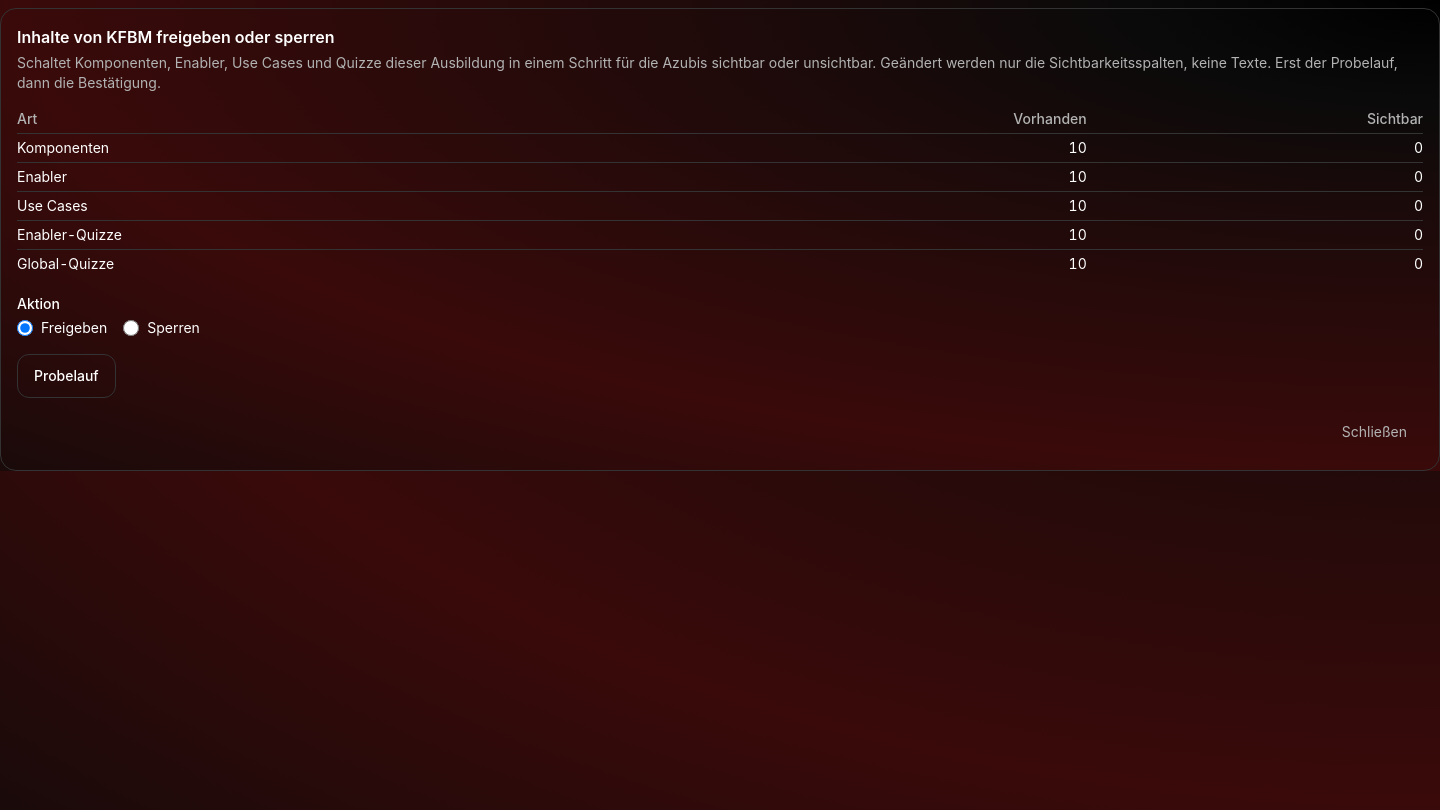
Scenario: ContentReleasePanel › a changed action resets the trial and the confirmation
Expected: the column heading "Komponenten" is shown, [17,134,646,162]
Click the button "Probelauf" at (66, 376), box [17,354,116,398]
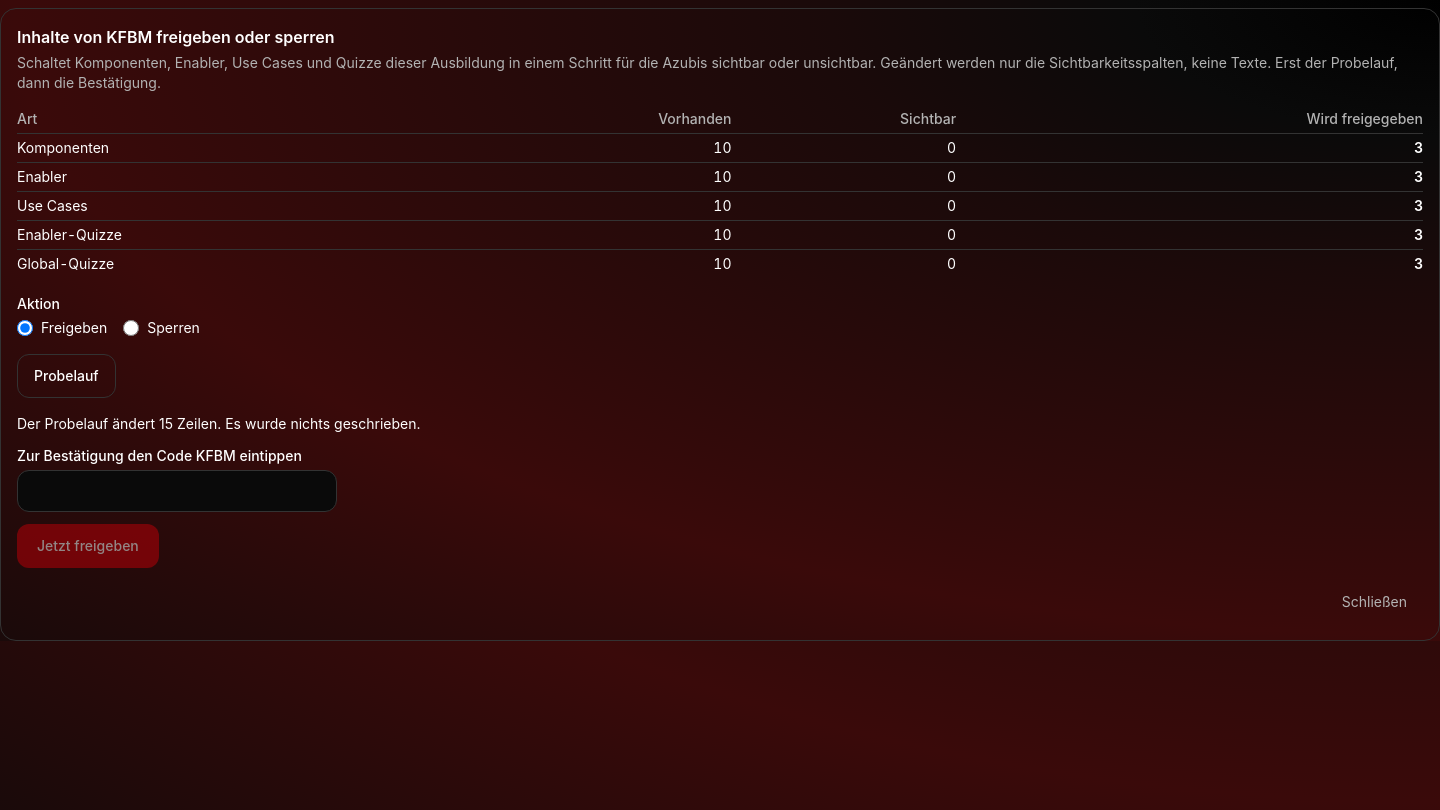
Now the button "Jetzt freigeben" is shown, box [17,524,159,568]
Click the radio button labelled "Sperren" at (131, 328), box [123,320,139,336]
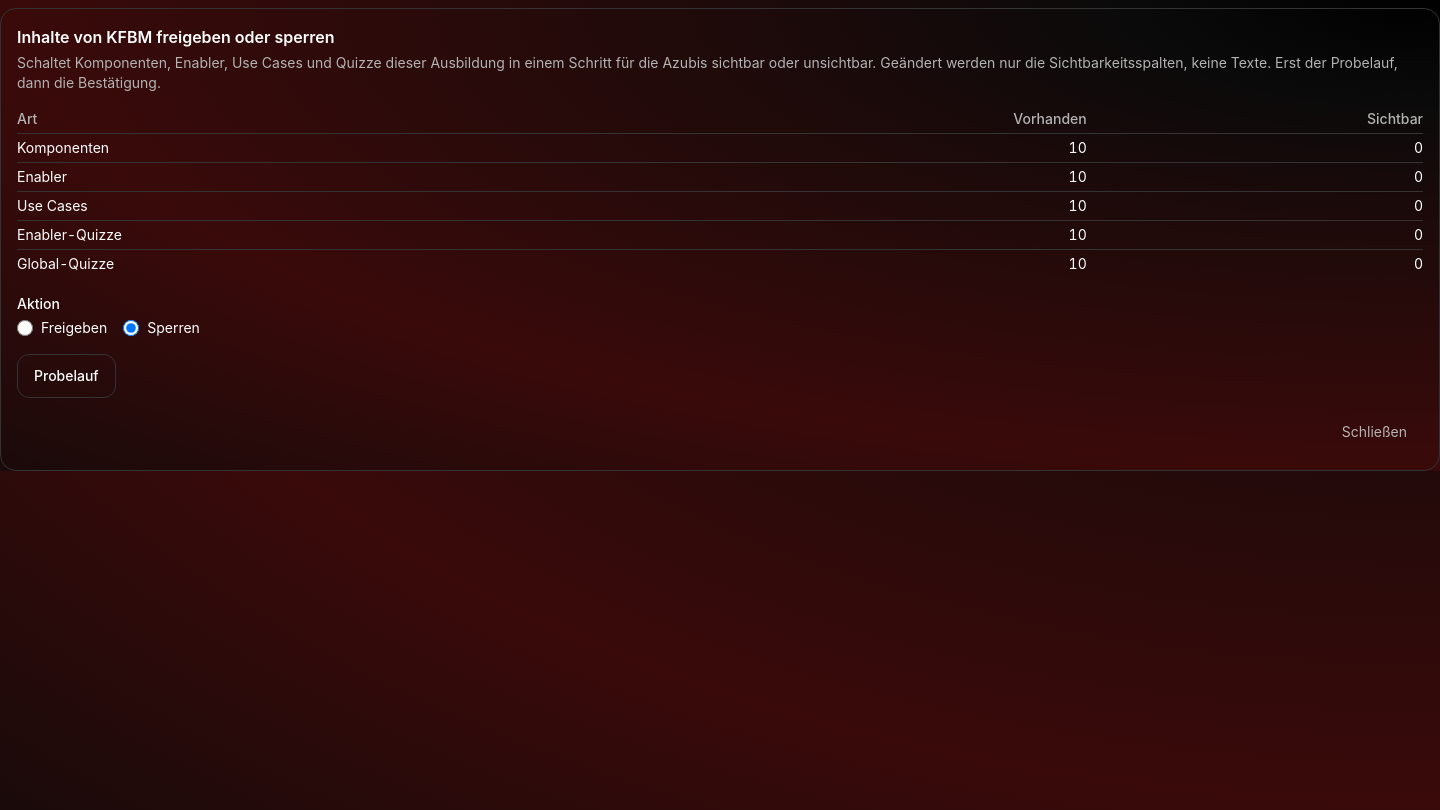
Now the button "Jetzt freigeben" is gone
